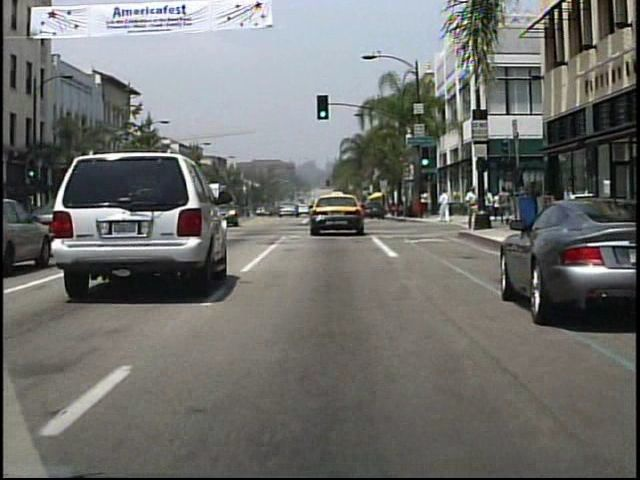person: (476, 187, 493, 229), (496, 186, 512, 227), (465, 183, 479, 229), (480, 186, 493, 227), (438, 189, 450, 222), (491, 190, 503, 223), (420, 189, 431, 218)
